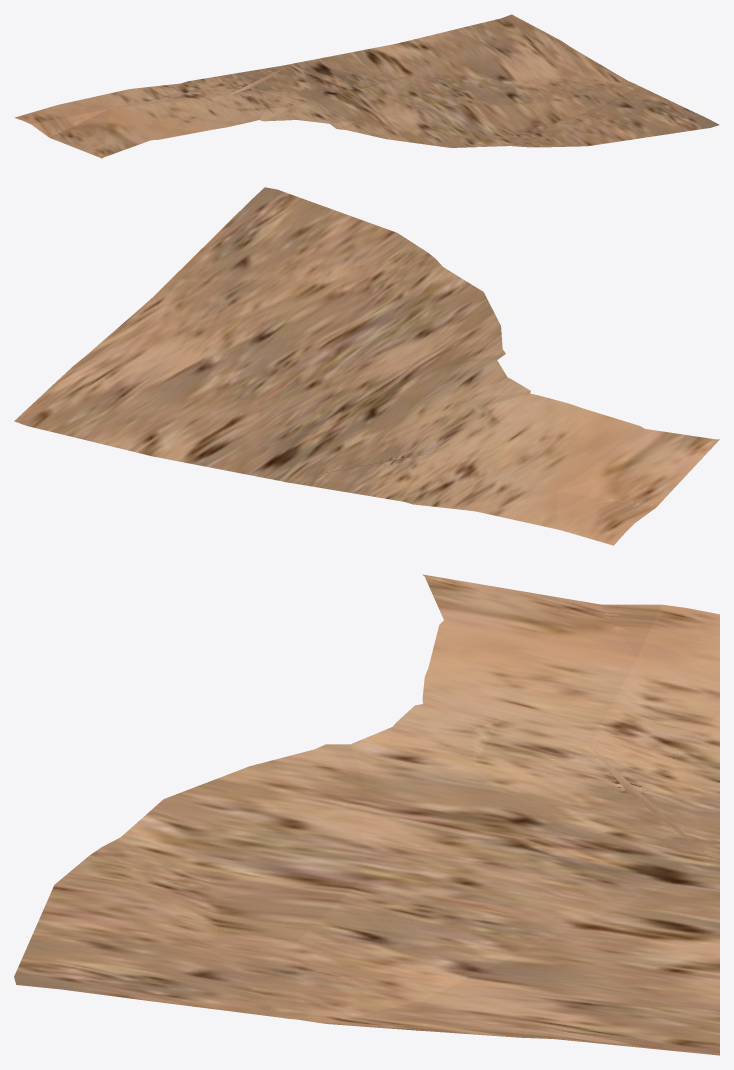
3 views of the same model, one above another, from view 1: azimuth 30°, elevation 25°; view 2: azimuth 150°, elevation 25°; view 3: azimuth 270°, elevation 25° (orthographic). The views are drawn at different scales.
Bounding box in the file's own units: 2.09 × 0.1731 × 1.52.
Materials: 1 (1 with a texture image).
